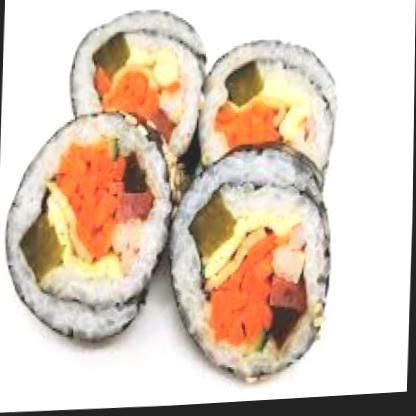rice: (8, 0, 341, 392)
